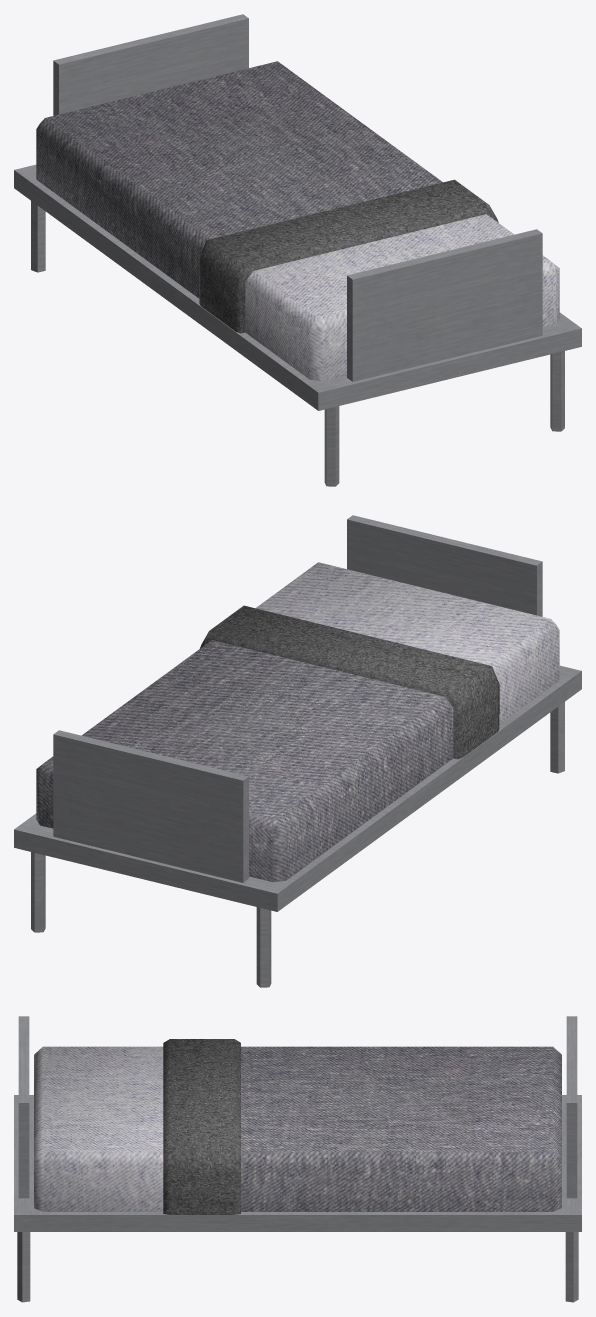
The model's file is Bed_04.glb.
The picture shows the model from 3 angles, top to bottom: view 1: azimuth 30°, elevation 25°; view 2: azimuth 150°, elevation 25°; view 3: azimuth 270°, elevation 25°; orthographic projection. The views are drawn at different scales.
Visible parts, largest first — view 1: Bed_04; view 2: Bed_04; view 3: Bed_04.
Boxes of the visible parts, left/top/right/bottom form: Bed_04: left=14, top=14, right=581, bottom=486; Bed_04: left=14, top=515, right=581, bottom=987; Bed_04: left=14, top=1016, right=581, bottom=1302.
Bounding box in the file's own units: 1.26 × 0.9227 × 2.52.
Materials: 4 (4 with a texture image).
